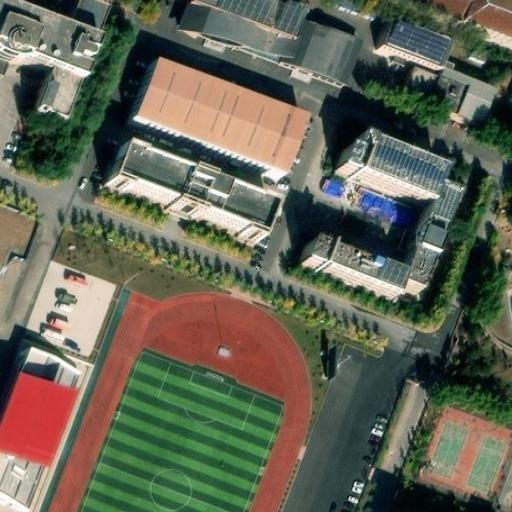building: (118, 61, 294, 180), (102, 151, 265, 247), (0, 24, 94, 106), (326, 145, 433, 212), (300, 252, 397, 307), (280, 27, 358, 95), (370, 19, 449, 83), (420, 75, 493, 139), (0, 200, 40, 273), (392, 233, 434, 293), (386, 70, 434, 118), (0, 0, 58, 39), (29, 93, 76, 140), (60, 11, 104, 59), (412, 188, 447, 240)
